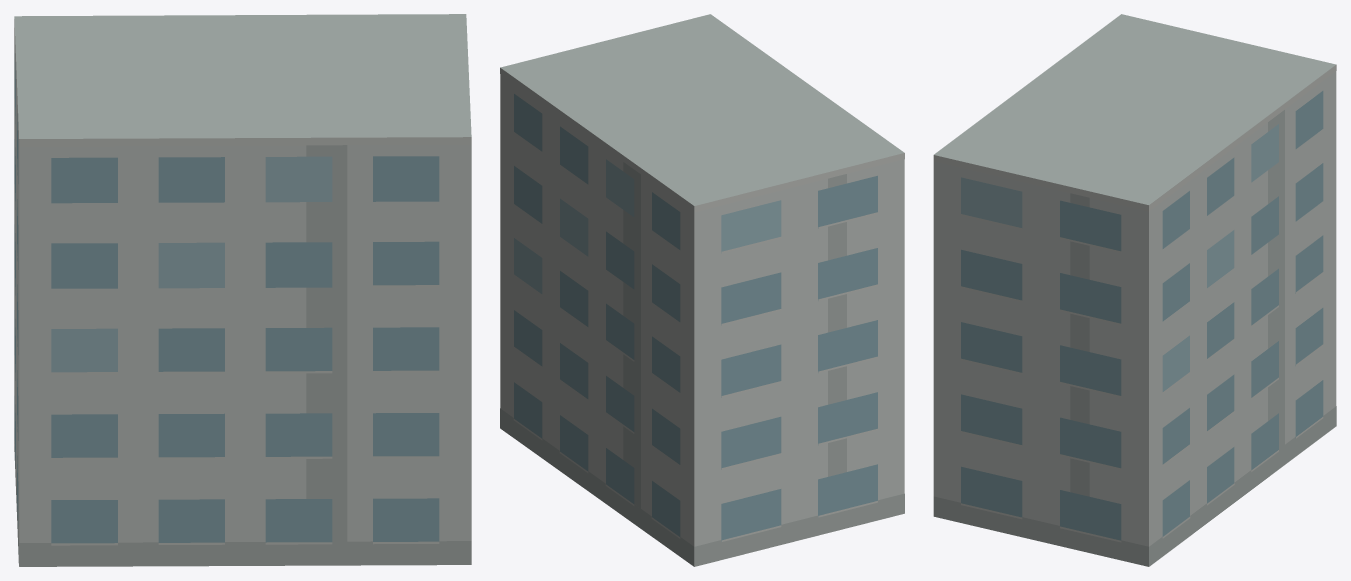
The model's file is survey-upis-33045758.glb.
The picture shows the model from 3 angles, left to right: view 1: azimuth 30°, elevation 25°; view 2: azimuth 150°, elevation 25°; view 3: azimuth 270°, elevation 25°; orthographic projection. The views are drawn at different scales.
Parts seen in each view (by area): view 1: survey-upis-33045758.tmp; view 2: survey-upis-33045758.tmp; view 3: survey-upis-33045758.tmp.
Part boxes in pixels (x1=…): survey-upis-33045758.tmp: x1=14, y1=14, x2=471, y2=566; survey-upis-33045758.tmp: x1=500, y1=14, x2=904, y2=566; survey-upis-33045758.tmp: x1=933, y1=14, x2=1336, y2=566.
Size of the model in its own units: 15.77 by 13.9 by 14.04.
